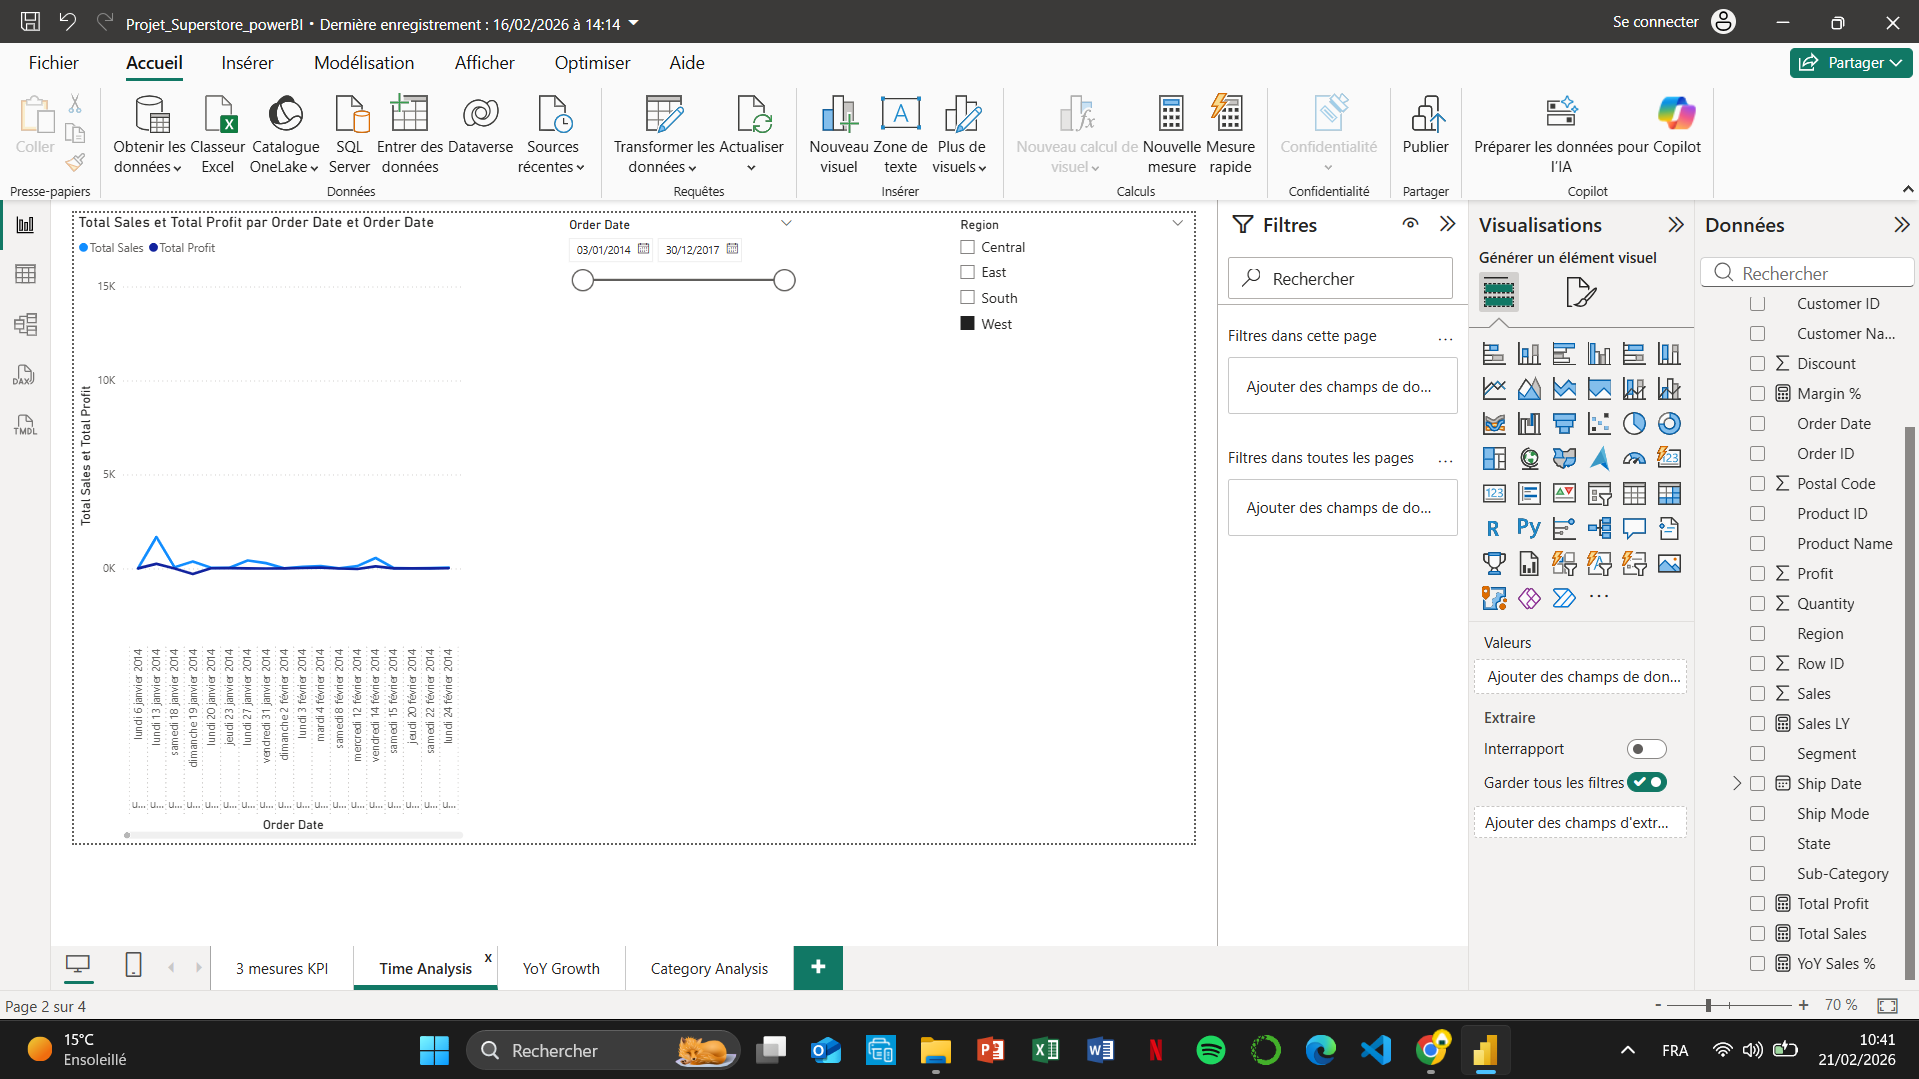

The dashboard page shown, as its layout file describes it:
{"tool":"powerbi","page":{"name":"Time Analysis","canvas":[1280,720],"ordinal":1},"visuals":[{"type":"slicer","fields":{"Values":["Fact_Sales.Order Date"]},"box":[552.2,0,280,720],"z":0},{"type":"slicer","fields":{"Values":["Fact_Sales.Region"]},"box":[1000,0,280,720],"z":1000},{"type":"lineChart","fields":{"Category":["Fact_Sales.Order Date.Variation.Hiérarchie de dates.Mois","Fact_Sales.Order Date.Variation.Hiérarchie de dates.Année"],"Y":["Fact_Sales.Total Sales","Fact_Sales.Total Profit"]},"box":[0,0,450,720],"z":2000}]}

Visuals, with their boxes on the page's 1280x720 design canvas (x1, y1, x2, y2). These are canvas units, not pixel positions in the 1919x1079 screenshot, which may show the page scaled, cropped or inside an application window:
slicer - Fact_Sales.Order Date: 552 0 832 720
slicer - Fact_Sales.Region: 1000 0 1280 720
lineChart - Fact_Sales.Order Date.Variation.Hiérarchie de dates.Mois x Fact_Sales.Order Date.Variation.Hiérarchie de dates.Année: 0 0 450 720
